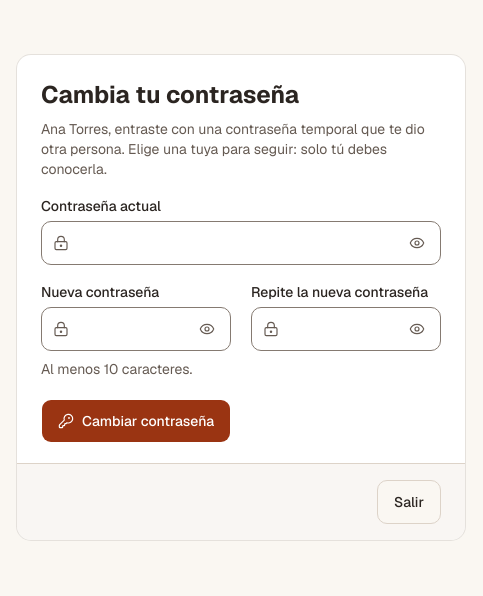
Test case: TemporaryPasswordView › una contraseña nueva débil muestra el motivo que da el servidor
In the password field labelled "Contraseña actual": {"x": 241, "y": 242} x1=41 y1=220 x2=441 y2=264, type "temporal-12345"
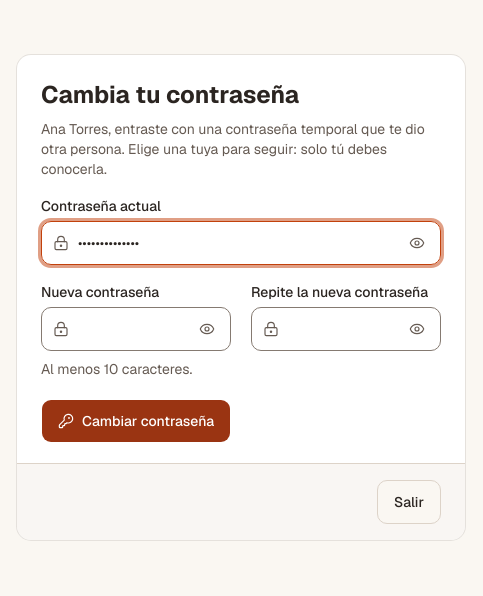
In the password field labelled "Nueva contraseña": {"x": 136, "y": 328} x1=41 y1=306 x2=231 y2=350, type "una-clave-propia"
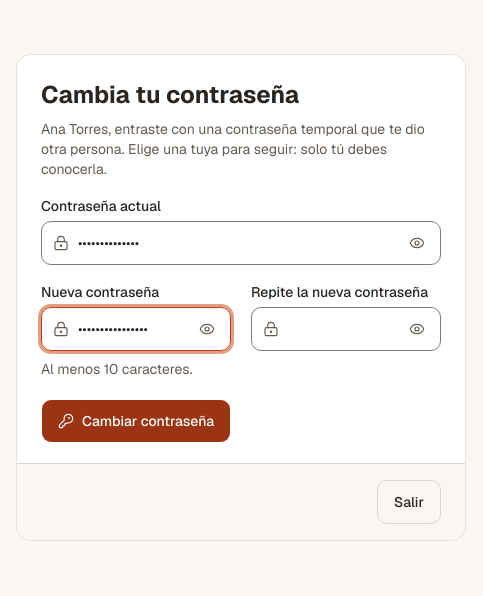
In the password field labelled "Repite la nueva contraseña": {"x": 346, "y": 328} x1=251 y1=306 x2=441 y2=350, type "una-clave-propia"
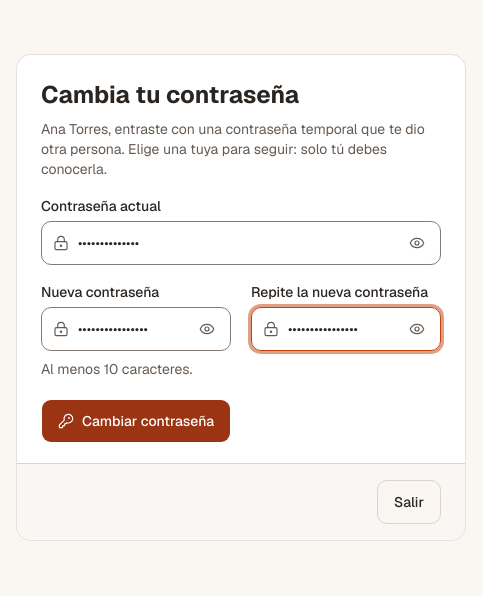
Click the button "Cambiar contraseña": {"x": 136, "y": 420} x1=41 y1=398 x2=231 y2=442
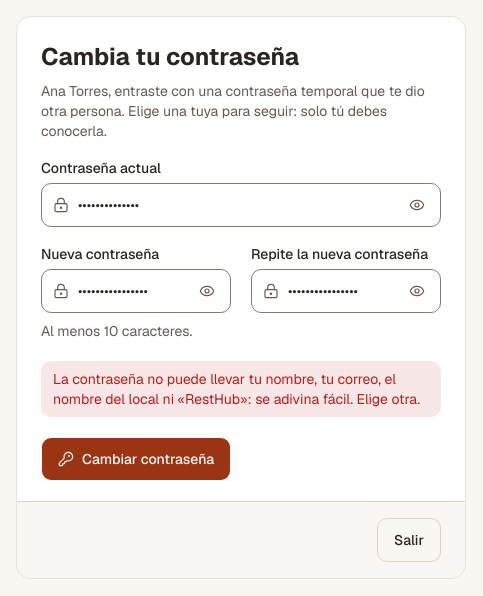
expect the text "La contraseña no puede llevar tu nombre, tu correo, el nombre del local ni «RestHub»: se adivina fácil. Elige otra." is shown: met, box x1=53 y1=370 x2=420 y2=408
